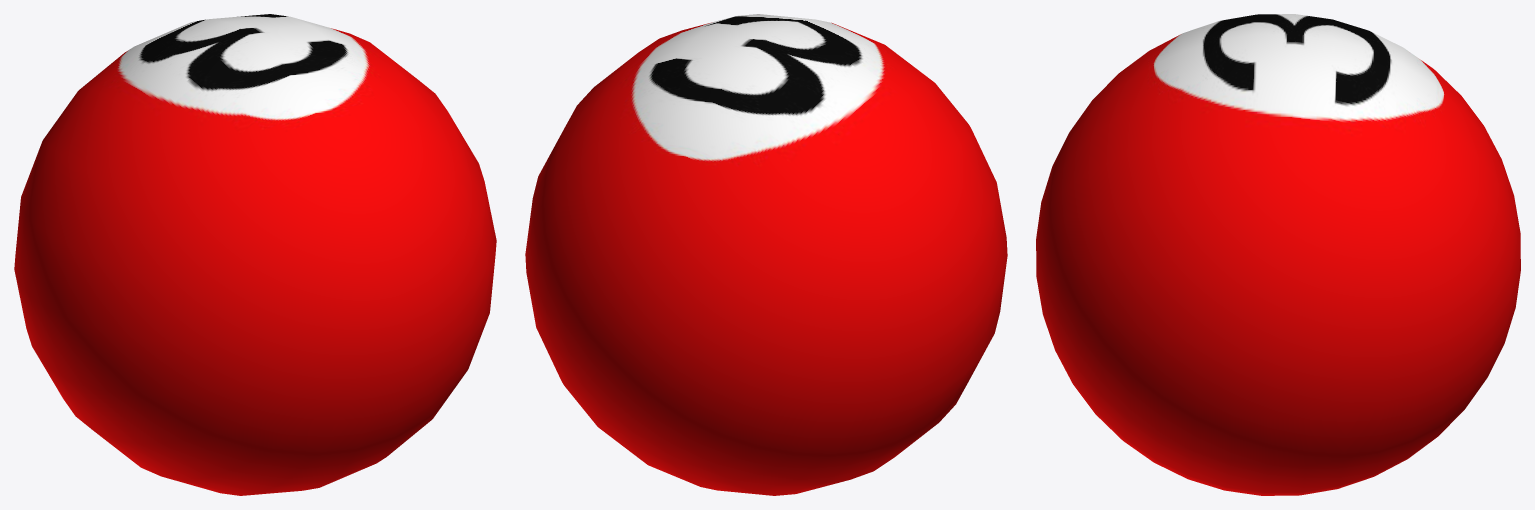
Rendered from Ball3.fbx.
3 views of the same model, side by side, from view 1: azimuth 30°, elevation 25°; view 2: azimuth 150°, elevation 25°; view 3: azimuth 270°, elevation 25° (orthographic).
Visible parts, largest first — view 1: pSphere1; view 2: pSphere1; view 3: pSphere1.
Boxes of the visible parts, x1,y1,x2,y2 form: pSphere1: (14,14,496,495); pSphere1: (525,14,1007,495); pSphere1: (1036,14,1520,495).
Size of the model in its own units: 2 by 1.99 by 2.
